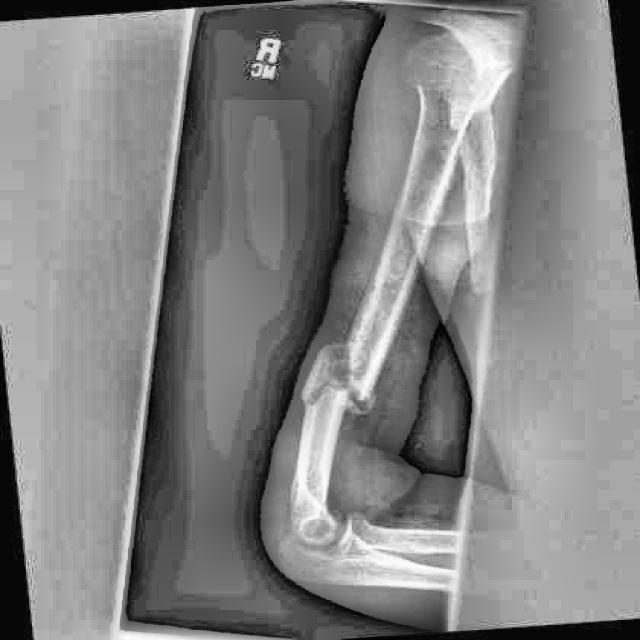humerus: (277, 320, 422, 460)
